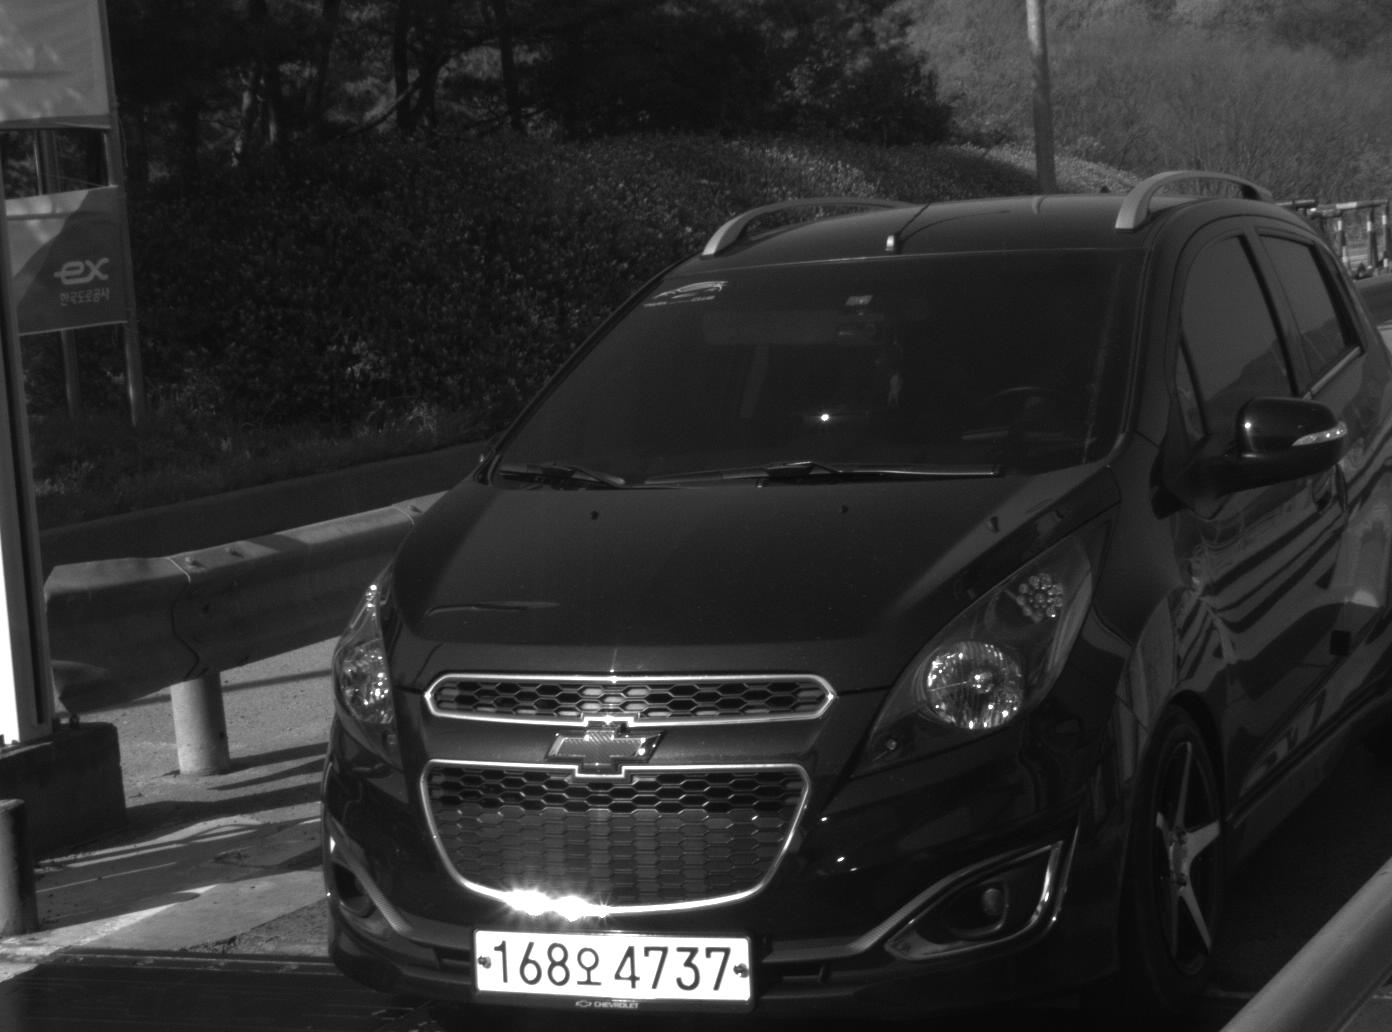car: (316, 167, 1392, 1032)
plate: (468, 927, 755, 1004)
